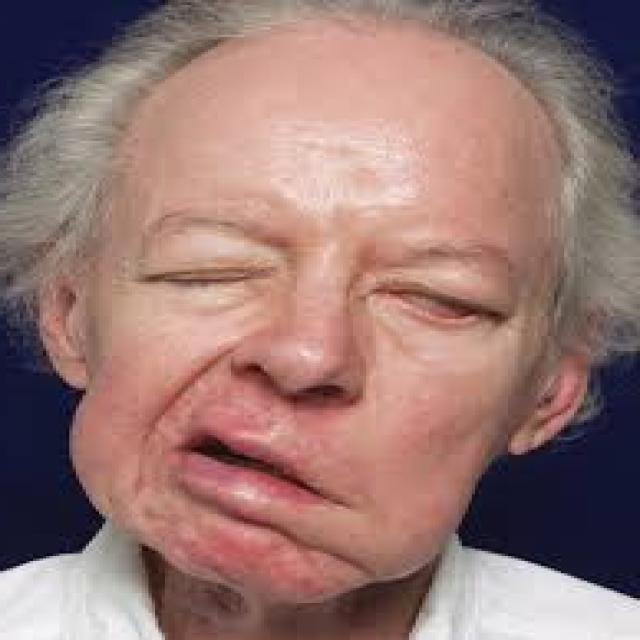stroke_face: (17, 23, 587, 640)
